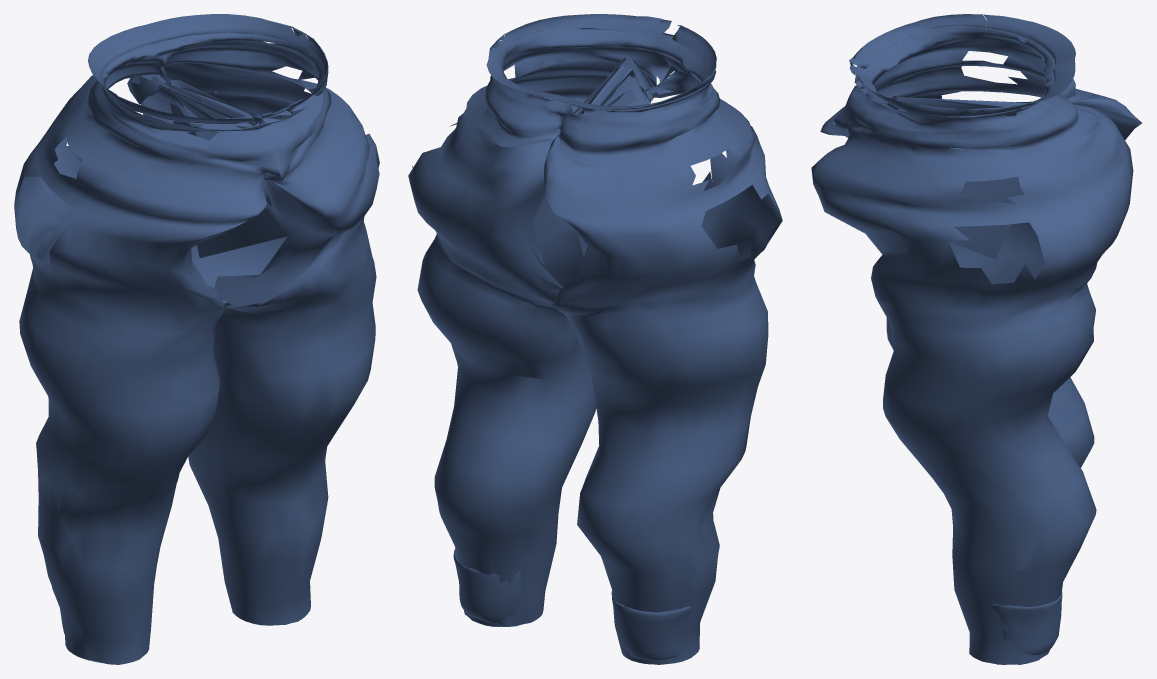
Rendered from bottom_f_m2jeans.glb.
3 views of the same model, side by side, from view 1: azimuth 30°, elevation 25°; view 2: azimuth 150°, elevation 25°; view 3: azimuth 270°, elevation 25° (orthographic). The views are drawn at different scales.
Visible parts, largest first — view 1: bottom_f_m2jeans; view 2: bottom_f_m2jeans; view 3: bottom_f_m2jeans.
Boxes of the visible parts, <box> form: bottom_f_m2jeans: <box>14,14,379,664</box>; bottom_f_m2jeans: <box>408,14,782,664</box>; bottom_f_m2jeans: <box>811,14,1141,664</box>.
Size of the model in its own units: 0.5749 by 0.9214 by 0.5012.
1 material, 1 textured.
